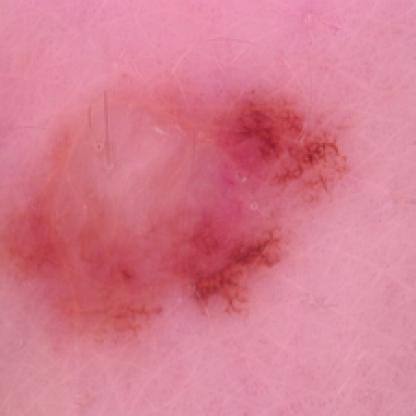benign: (26, 89, 358, 327)
